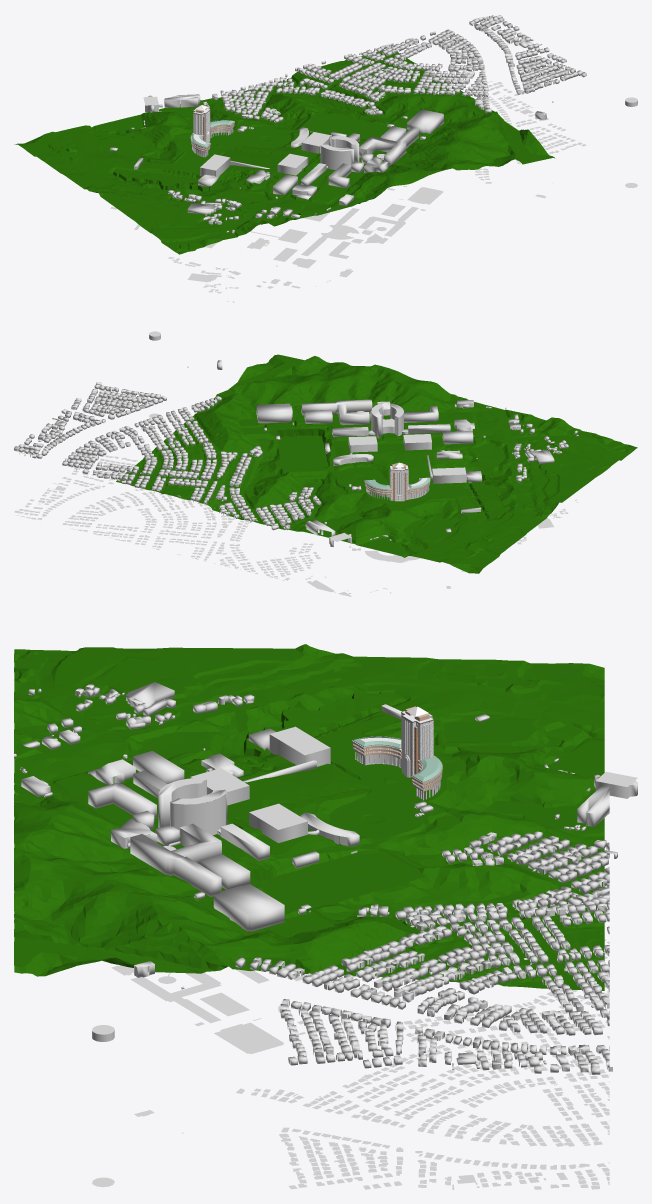
File: gakkou_zahyou合成01.glb
3 renders of one model, top to bottom at view 1: azimuth 30°, elevation 25°; view 2: azimuth 150°, elevation 25°; view 3: azimuth 270°, elevation 25°, orthographic. The views are drawn at different scales.
Visible parts, largest first — view 1: dem, CityGML.001, CityGML, Circle.013; view 2: dem, CityGML.001, CityGML, Circle.013; view 3: dem, CityGML.001, CityGML, Circle.013.
Boxes of the visible parts, left/top/right/bottom form: dem: left=14, top=49, right=554, bottom=254; CityGML.001: left=110, top=15, right=586, bottom=266; CityGML: left=187, top=97, right=637, bottom=302; Circle.013: left=190, top=105, right=234, bottom=157; dem: left=116, top=354, right=637, bottom=573; CityGML.001: left=14, top=366, right=526, bottom=596; CityGML: left=149, top=331, right=578, bottom=528; Circle.013: left=364, top=462, right=430, bottom=501; dem: left=14, top=644, right=604, bottom=990; CityGML.001: left=130, top=694, right=637, bottom=1189; CityGML: left=14, top=682, right=206, bottom=1187; Circle.013: left=352, top=706, right=442, bottom=800.
Bounding box in the file's own units: 127 × 24.85 × 79.02.
